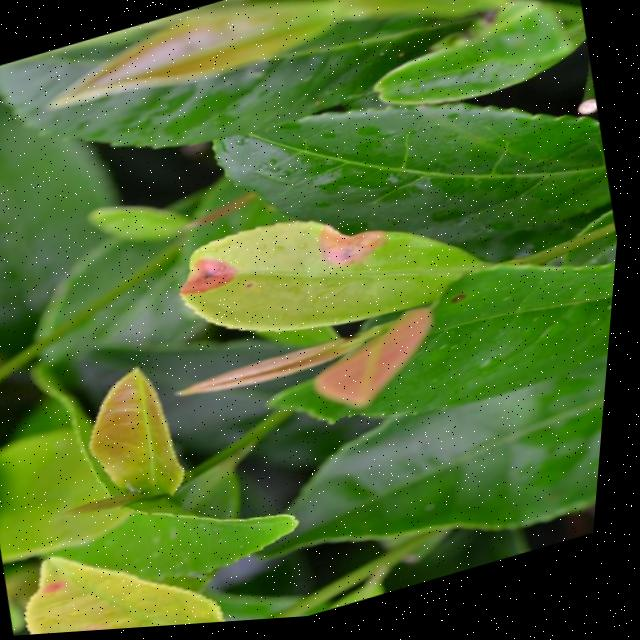Tea cake: (313, 213, 386, 275), (175, 252, 243, 305)
